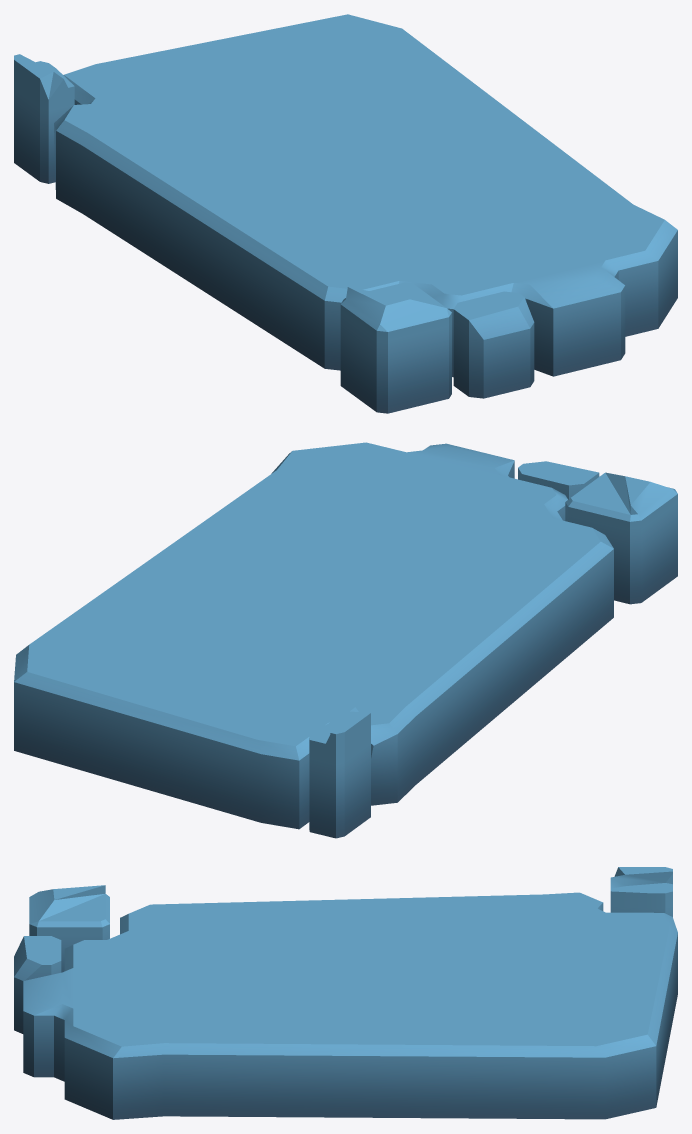
Rendered from Tomb Base 02.fbx.
The picture shows the model from 3 angles, top to bottom: view 1: azimuth 30°, elevation 25°; view 2: azimuth 150°, elevation 25°; view 3: azimuth 270°, elevation 25°; orthographic projection. The views are drawn at different scales.
Visible parts, largest first — view 1: Tomb Base 02.002; view 2: Tomb Base 02.002; view 3: Tomb Base 02.002.
Boxes of the visible parts, x1=… form: Tomb Base 02.002: x1=14, y1=14, x2=677, y2=413; Tomb Base 02.002: x1=14, y1=442, x2=677, y2=838; Tomb Base 02.002: x1=14, y1=867, x2=677, y2=1119.
Bounding box in the file's own units: 212 × 57.41 × 369.
